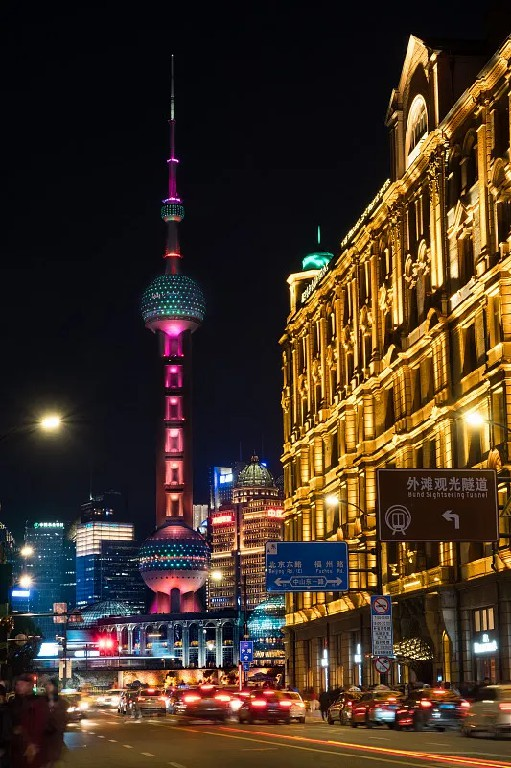Oriental: (139, 52, 211, 612)
